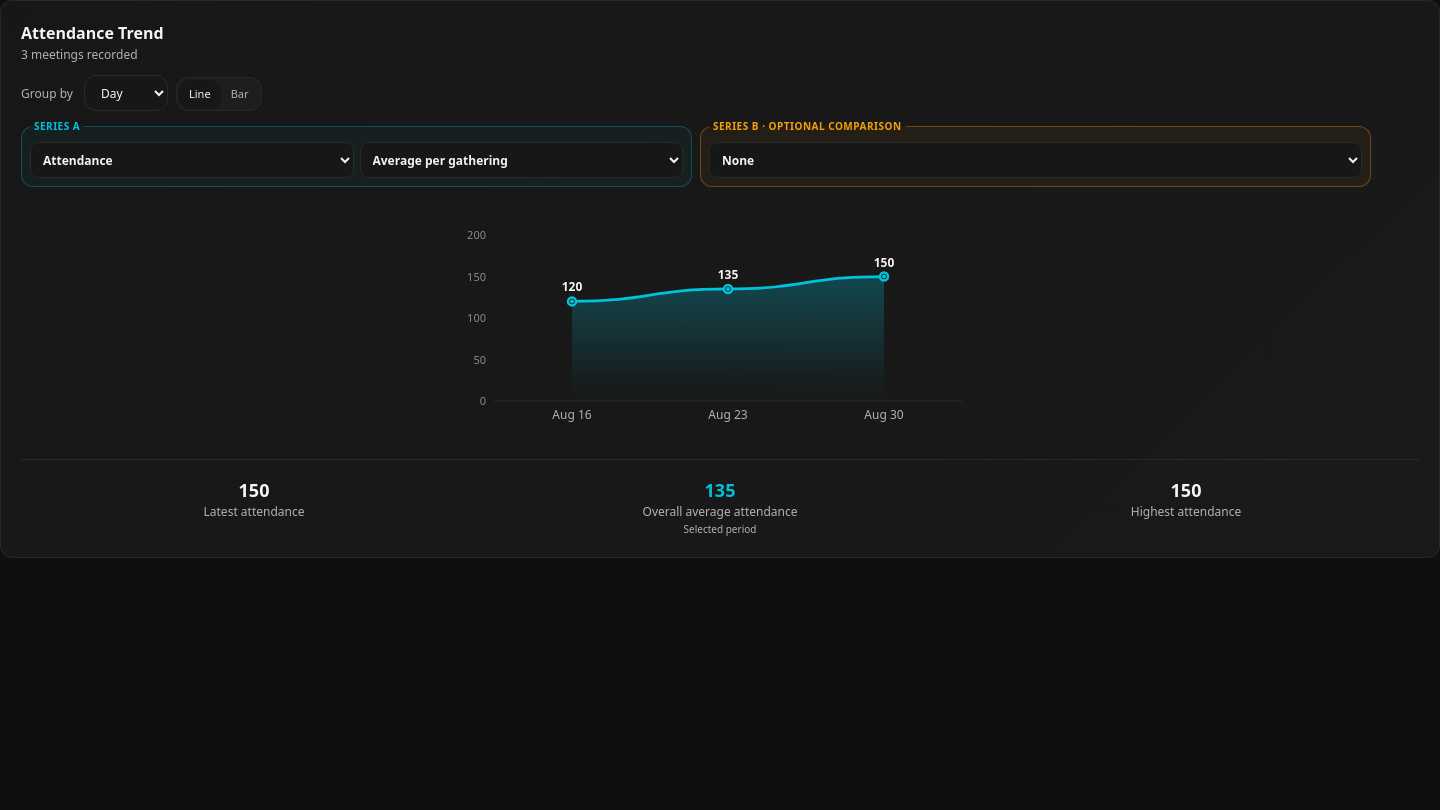
it: AttendanceTrend › can show a non-attendance metric by itself
The image size is (1440, 810).
Select "First timers" in the dropdown named "Primary metric" at (192, 160), box [30, 142, 354, 178]
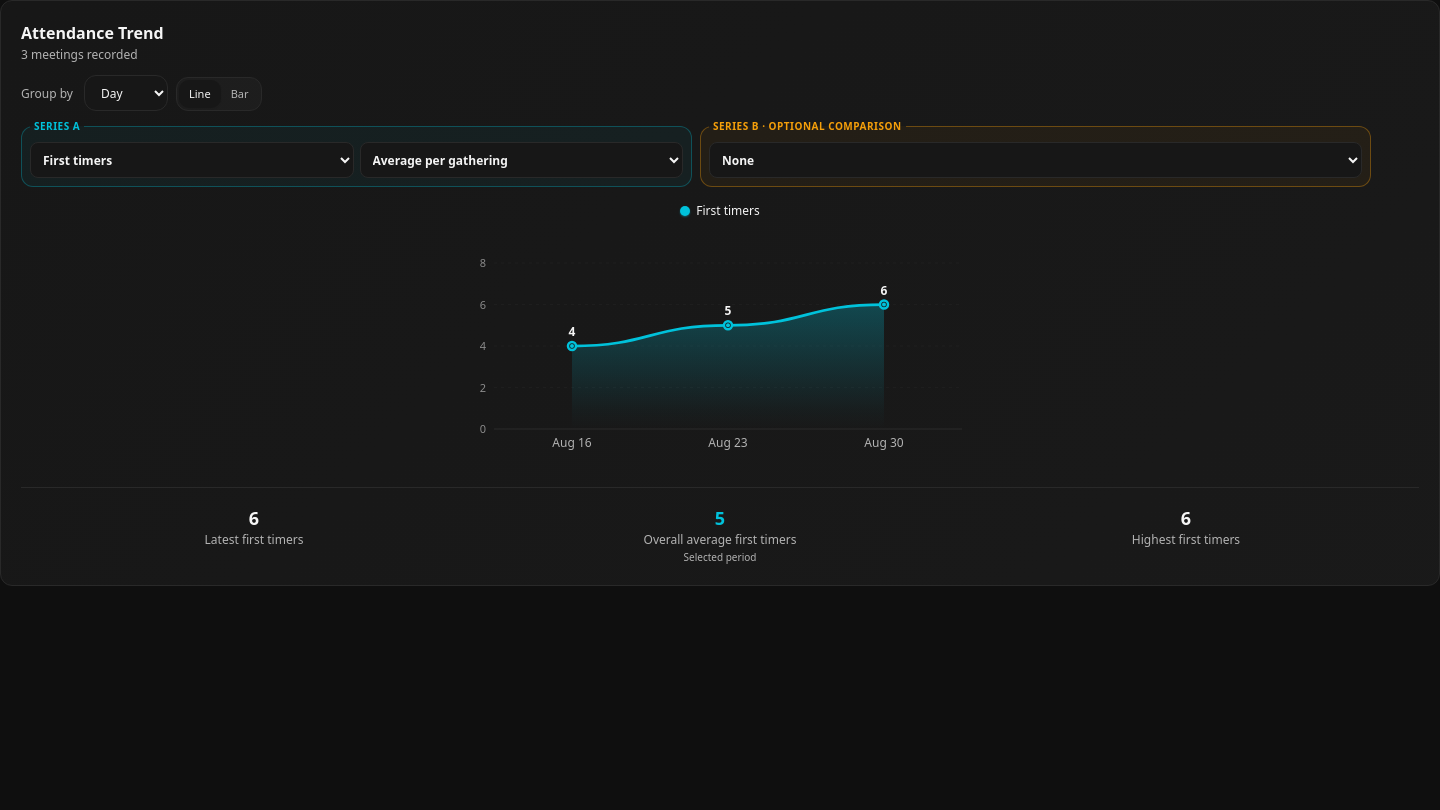
Result: the text "Overall average first timers" is shown at [644, 531, 796, 548]
Result: the text "Overall average attendance" is gone
